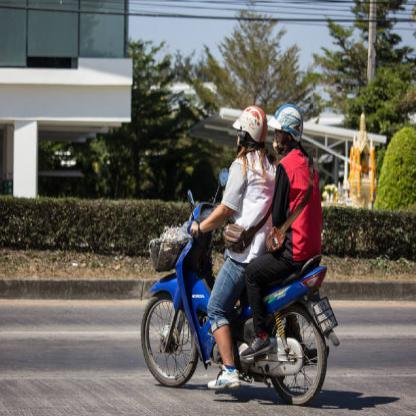Motorcycle: (136, 198, 334, 407)
